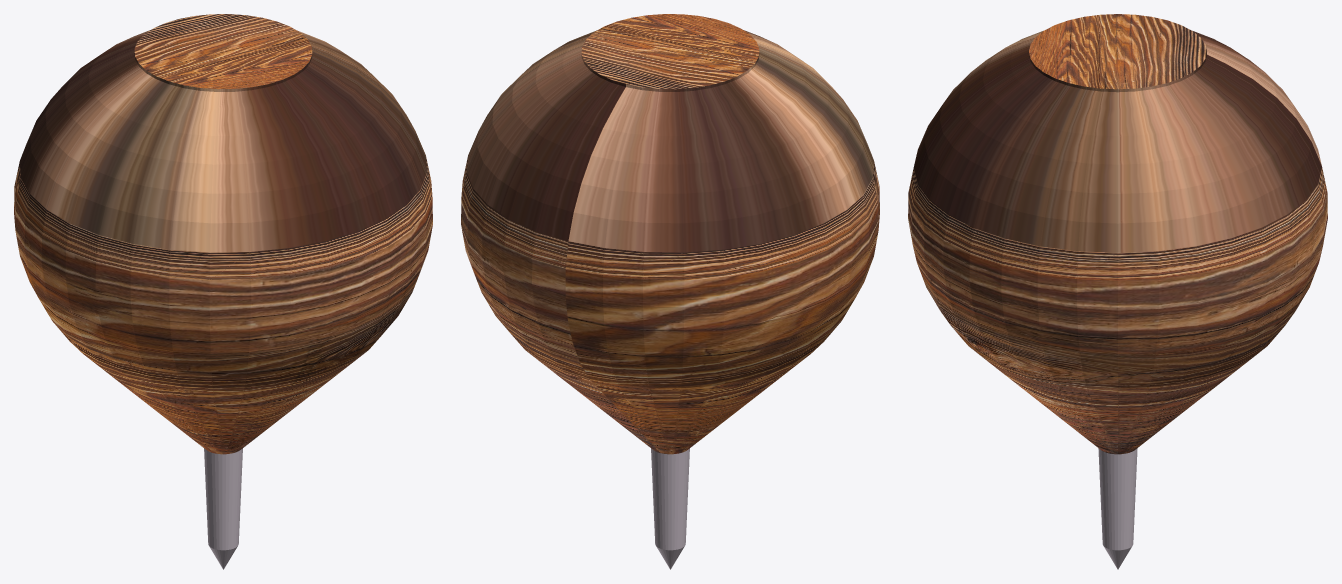
The model's file is trumpo.glb.
3 views of the same model, side by side, from view 1: azimuth 30°, elevation 25°; view 2: azimuth 150°, elevation 25°; view 3: azimuth 270°, elevation 25° (orthographic).
Visible parts, largest first — view 1: Cylinder; view 2: Cylinder; view 3: Cylinder.
Boxes of the visible parts, <box> form: Cylinder: <box>14,14,432,569</box>; Cylinder: <box>461,14,879,569</box>; Cylinder: <box>908,14,1327,569</box>.
Size of the model in its own units: 1.35 by 1.85 by 1.35.
3 materials, 2 textured.
